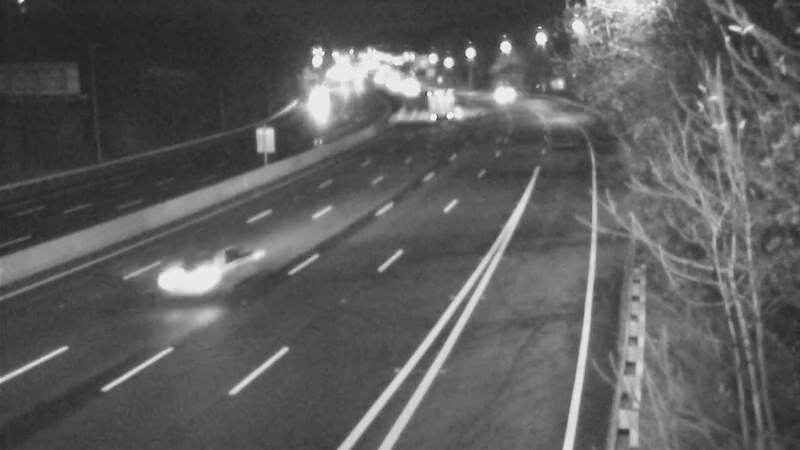vehicle: (137, 243, 217, 323), (409, 82, 459, 132), (476, 63, 526, 113), (291, 81, 341, 131)
